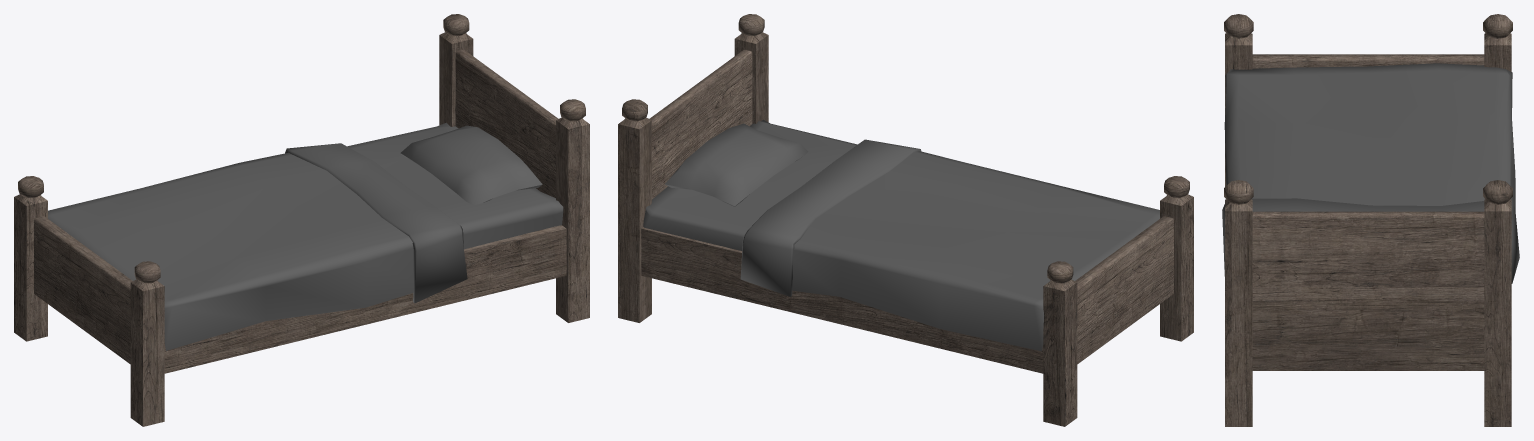
File: mw_bed_02.FBX
3 views of the same model, side by side, from view 1: azimuth 30°, elevation 25°; view 2: azimuth 150°, elevation 25°; view 3: azimuth 270°, elevation 25° (orthographic). The views are drawn at different scales.
Parts seen in each view (by area): view 1: mw_bed_02; view 2: mw_bed_02; view 3: mw_bed_02.
Part boxes in pixels (bbox=[...]): mw_bed_02: bbox=[14, 14, 589, 426]; mw_bed_02: bbox=[618, 14, 1193, 426]; mw_bed_02: bbox=[1222, 14, 1519, 426].
Bounding box in the file's own units: 288 × 130 × 149.
